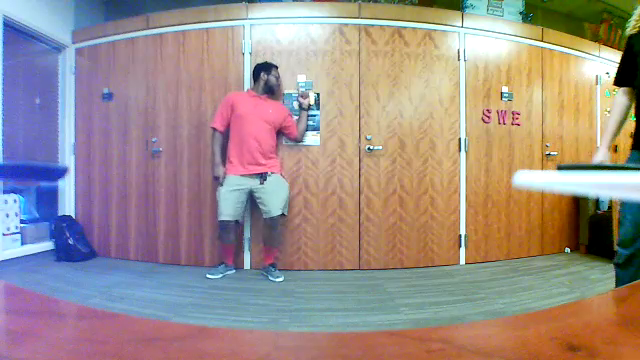up: (294, 81, 310, 109)
